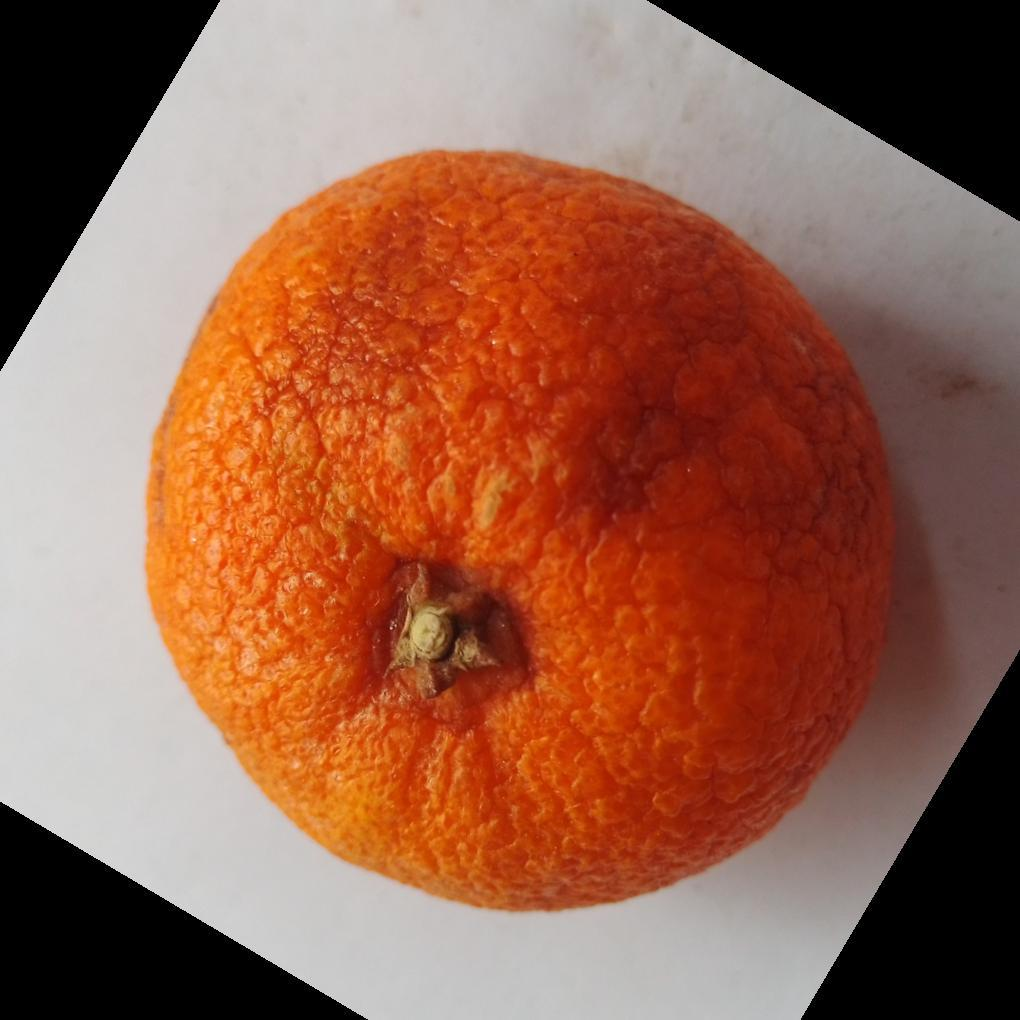FreshOrange: (140, 149, 897, 920)
